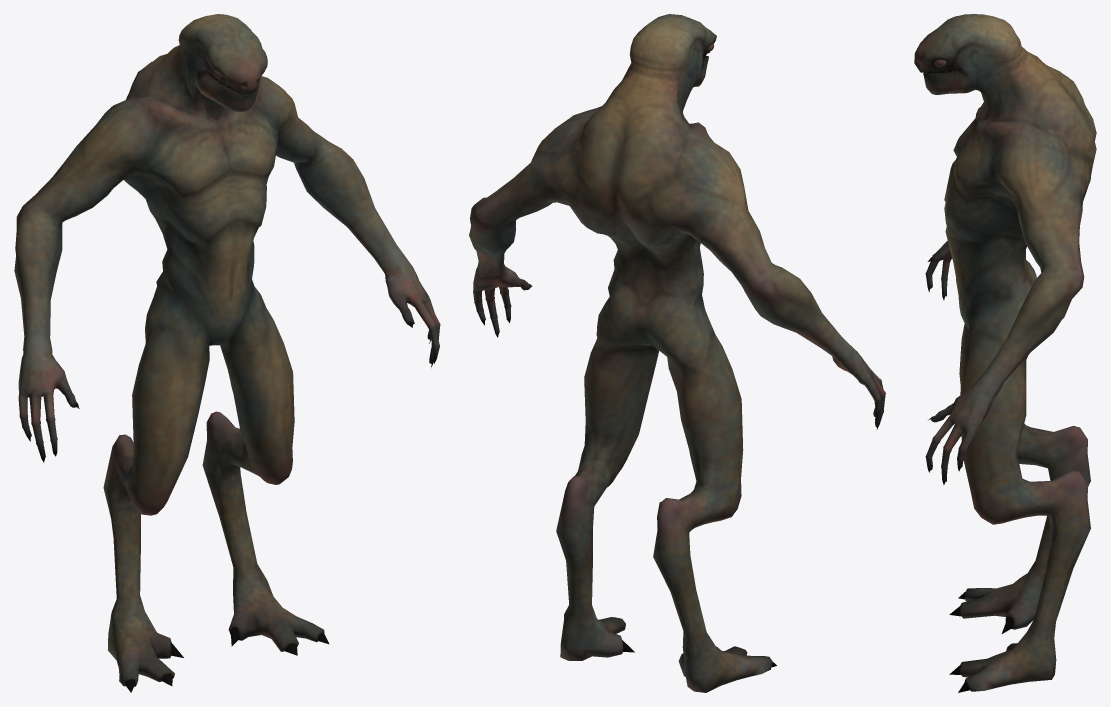
Rendered from lizardman-a710eb.glb.
3 renders of one model, left to right at view 1: azimuth 30°, elevation 25°; view 2: azimuth 150°, elevation 25°; view 3: azimuth 270°, elevation 25°, orthographic. The views are drawn at different scales.
Visible parts, largest first — view 1: PropMesh; view 2: PropMesh; view 3: PropMesh.
Part boxes in pixels (x1,y1,x2,y2): PropMesh: [14, 14, 440, 692]; PropMesh: [469, 14, 885, 692]; PropMesh: [914, 14, 1096, 692].
Bounding box in the file's own units: 1.29 × 1.9 × 0.5008.
Materials: 1 (1 with a texture image).
